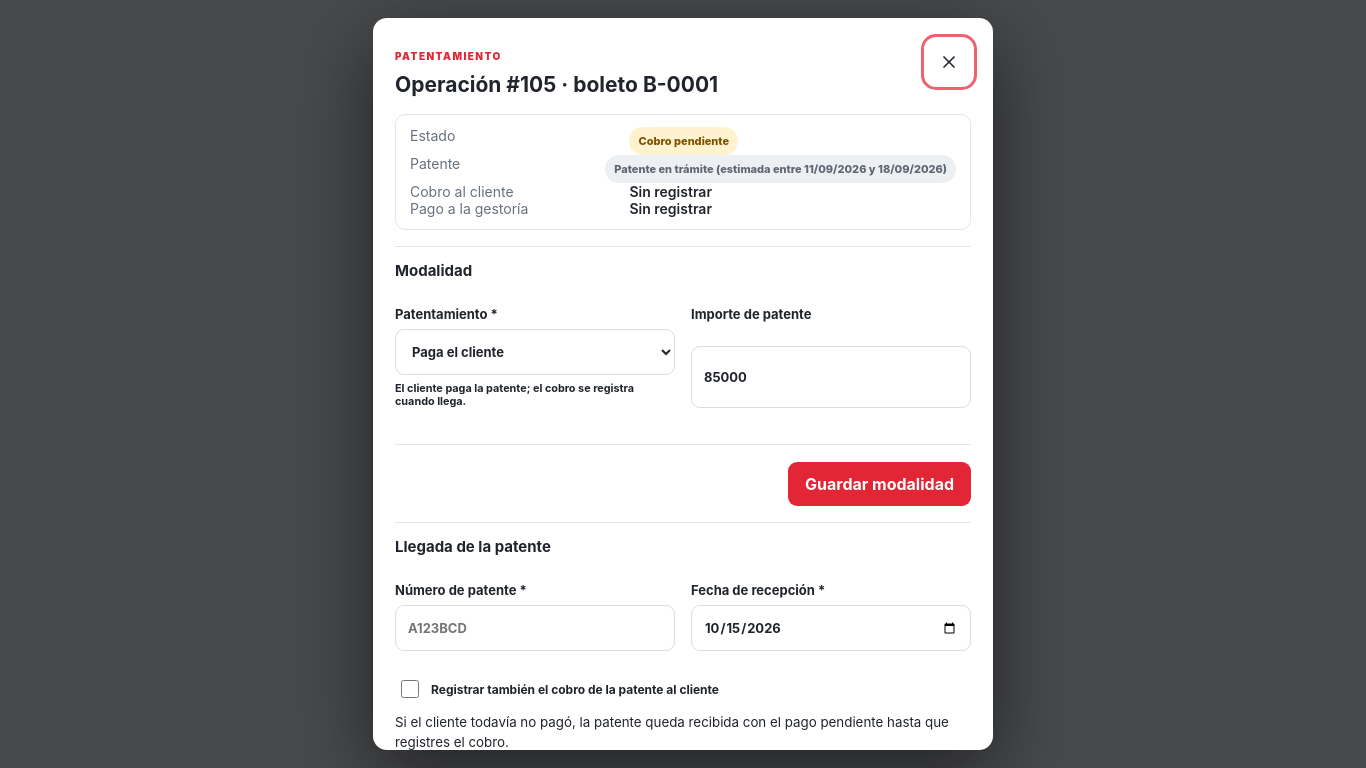
it: Gestión de patentamiento › cambia modalidad e importe con expectedVersion
This screenshot has width=1366, height=768.
Select "Bonificada" in the dropdown labelled "Patentamiento *" at (535, 352), box x1=395 y1=329 x2=675 y2=375
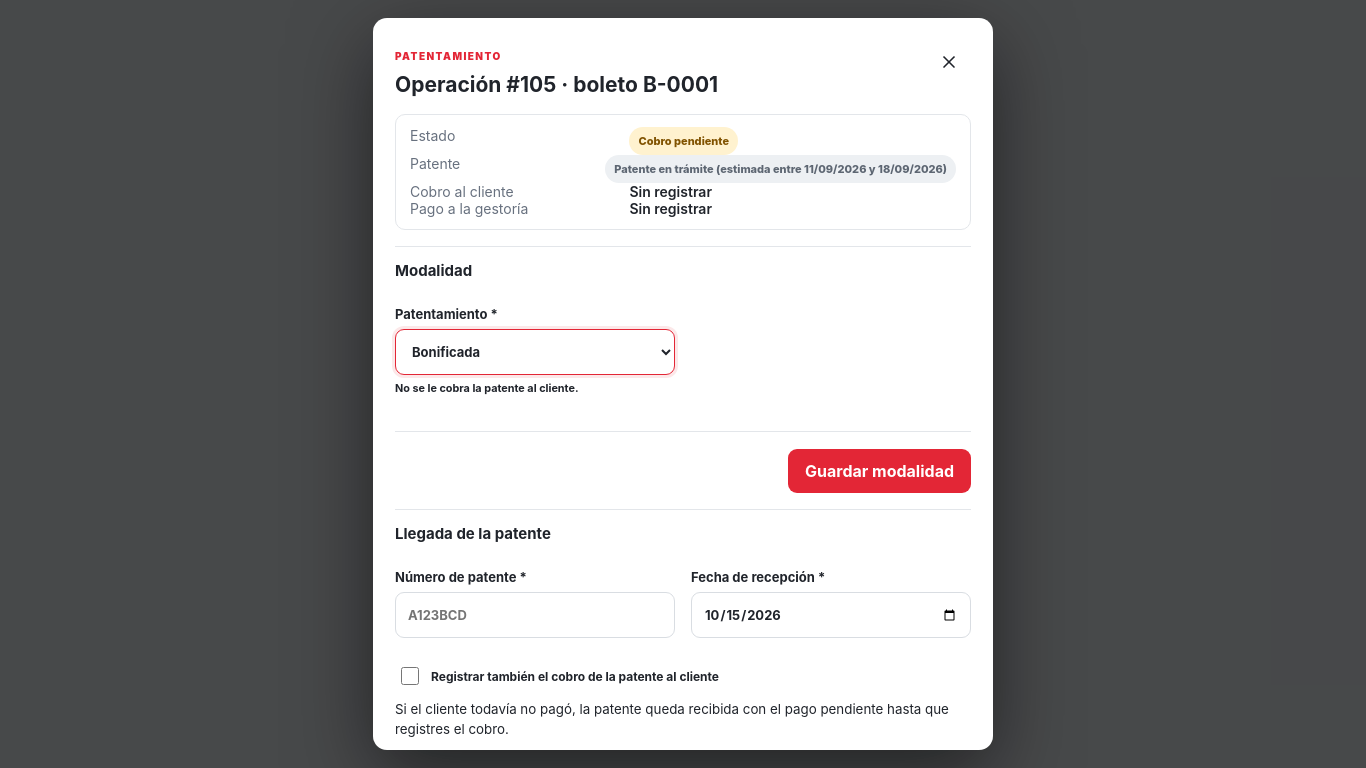
expect the text labelled "Importe de patente" is gone: met
Click the button "Guardar modalidad" at (880, 471), box x1=788 y1=449 x2=971 y2=493
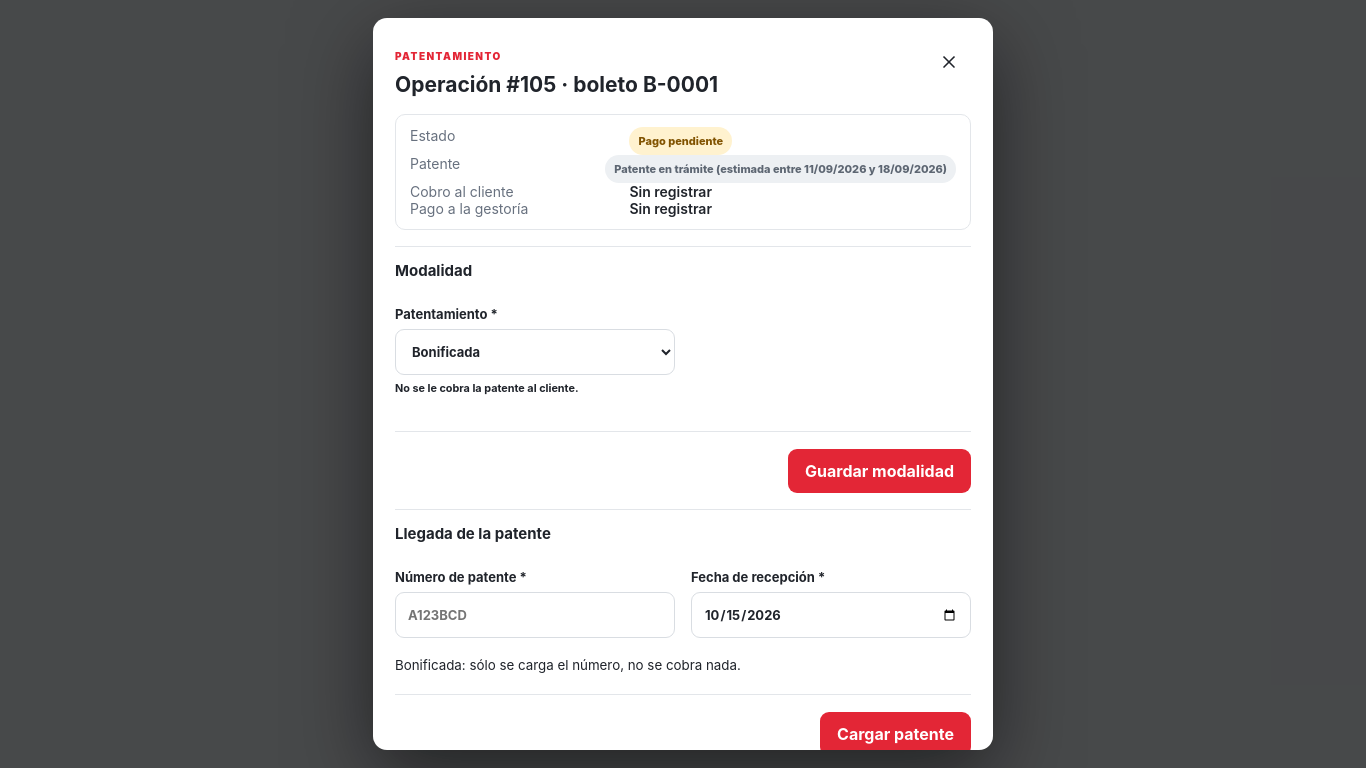
expect the text "Pago pendiente" is shown: met, box x1=630 y1=127 x2=732 y2=155
